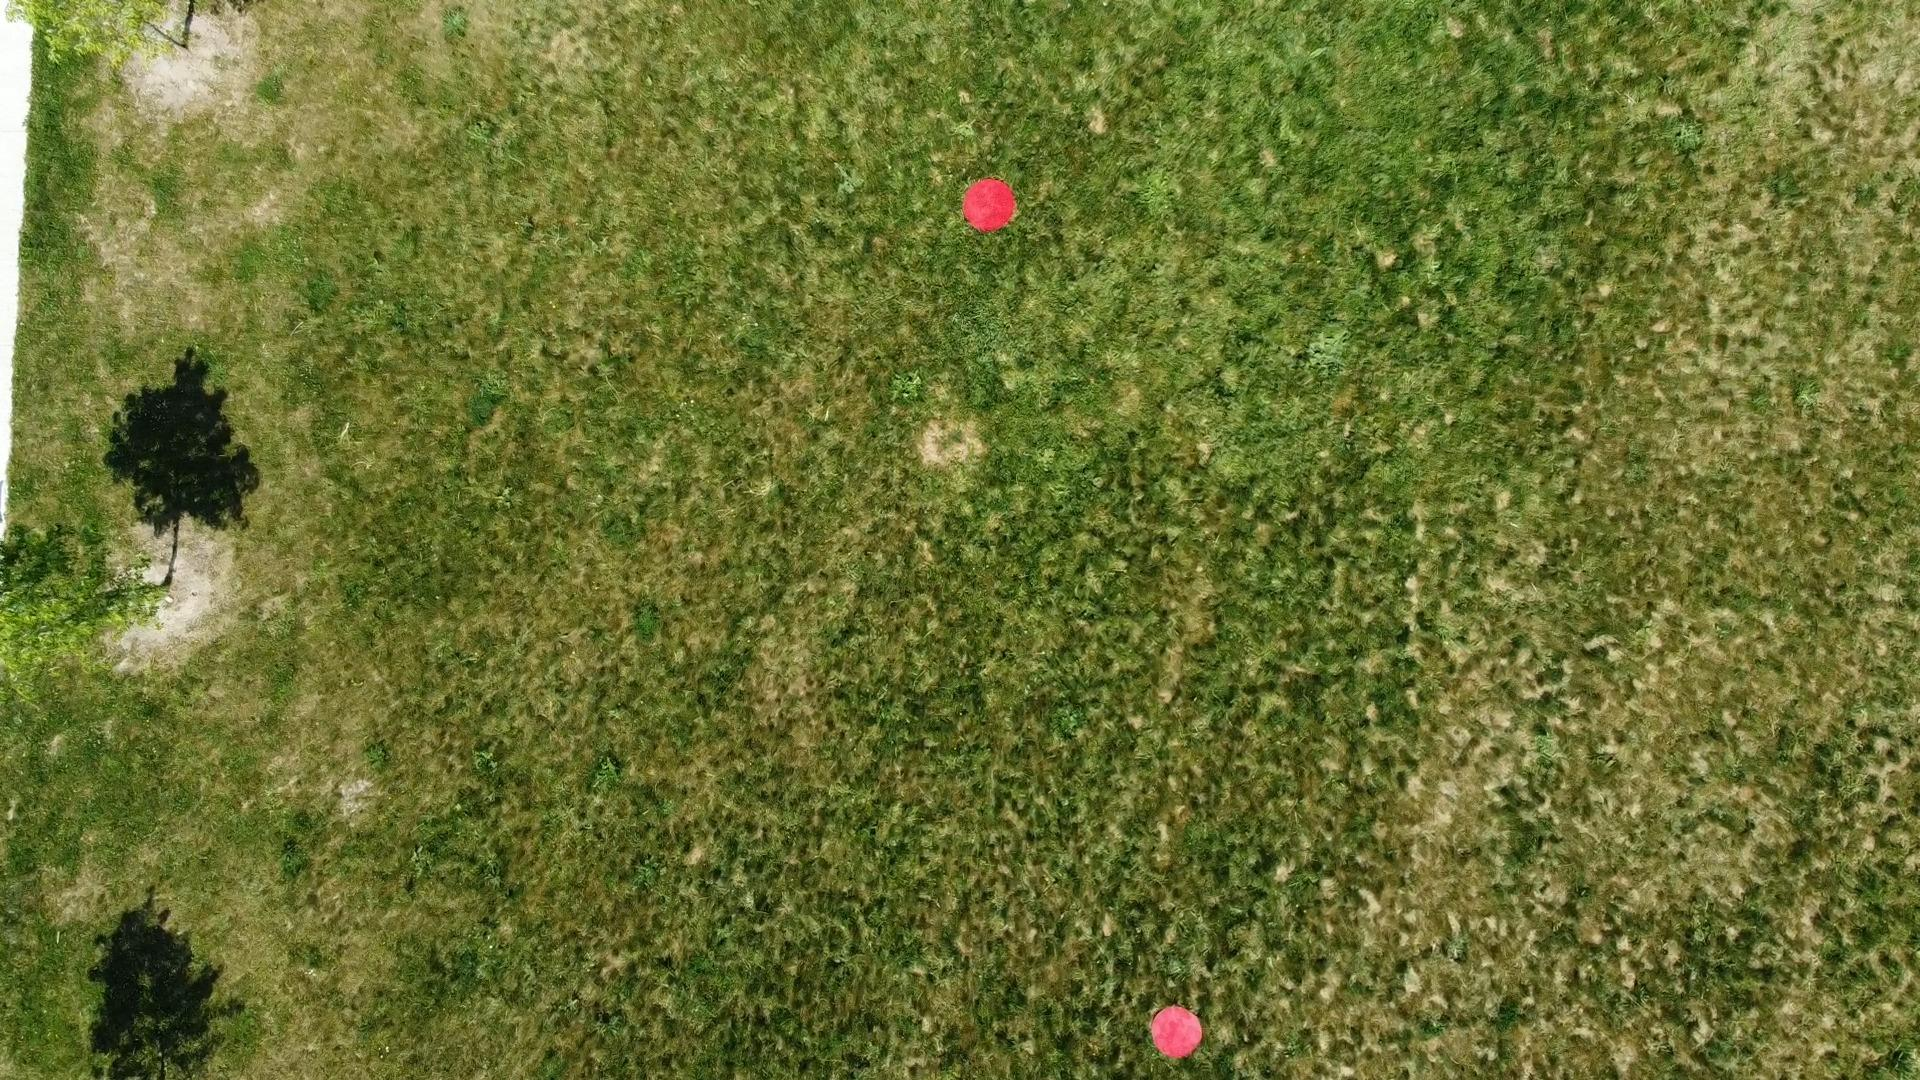Red: (961, 177, 1019, 235), (1149, 1002, 1207, 1060)
